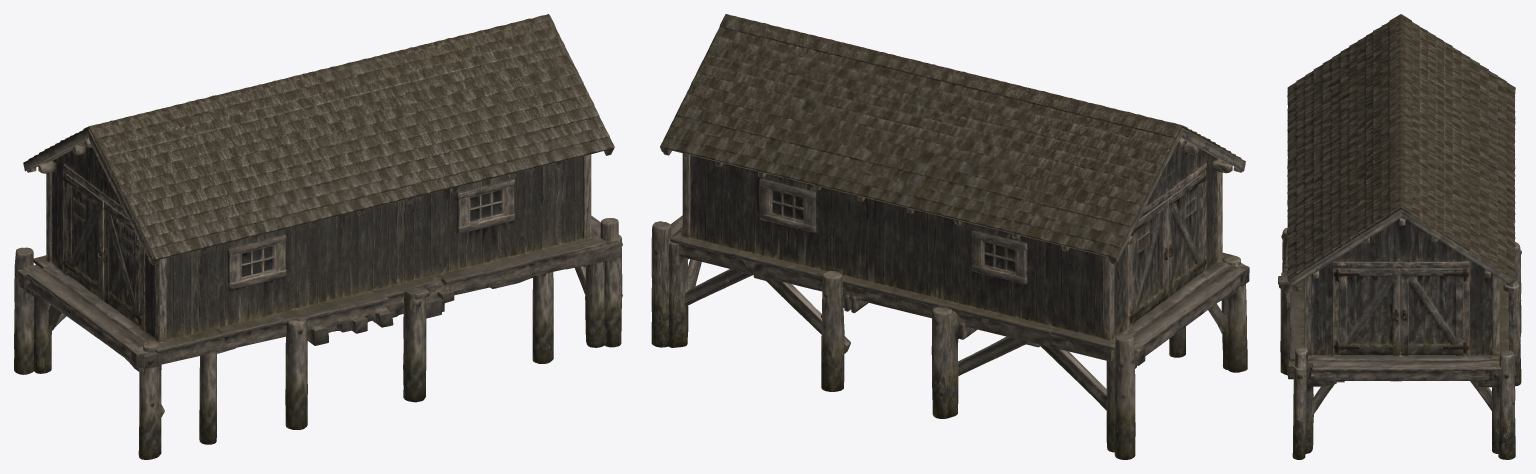
File: szopa_na_lodzie.glb
3 renders of one model, left to right at view 1: azimuth 30°, elevation 25°; view 2: azimuth 150°, elevation 25°; view 3: azimuth 270°, elevation 25°, orthographic. The views are drawn at different scales.
Visible parts, largest first — view 1: Mesh_0; view 2: Mesh_0; view 3: Mesh_0.
Part boxes in pixels (left/top/right/bottom): Mesh_0: left=14, top=14, right=622, bottom=459; Mesh_0: left=651, top=14, right=1249, bottom=459; Mesh_0: left=1278, top=14, right=1521, bottom=459.
Bounding box in the file's own units: 1.9 × 1.07 × 0.9543.
Materials: 1 (1 with a texture image).
